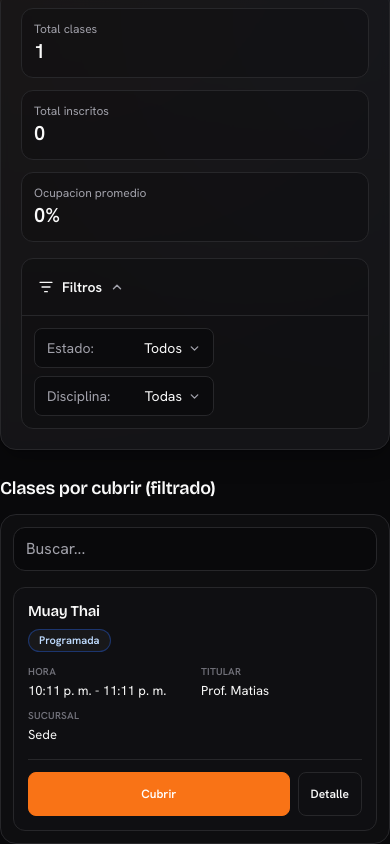
Test: TeacherClassesPage — suplencias disponibles › abre el detalle directo desde clases por cubrir
(page scrolled)
Click the button "Detalle": (330, 794) 298,772 -> 362,816
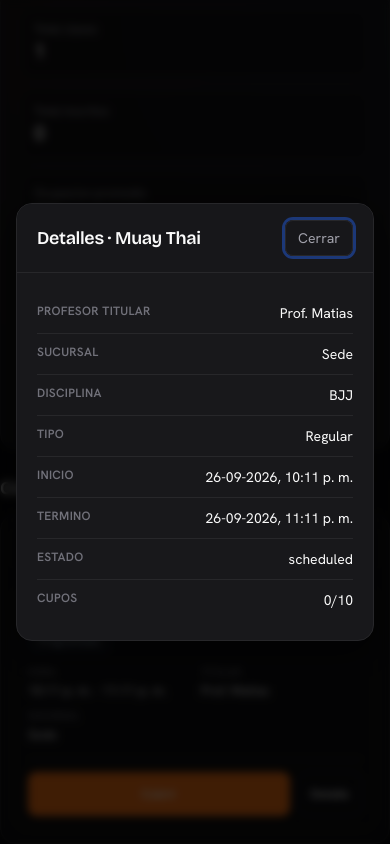
expect the dialog "Detalles · Muay Thai" is shown: met
